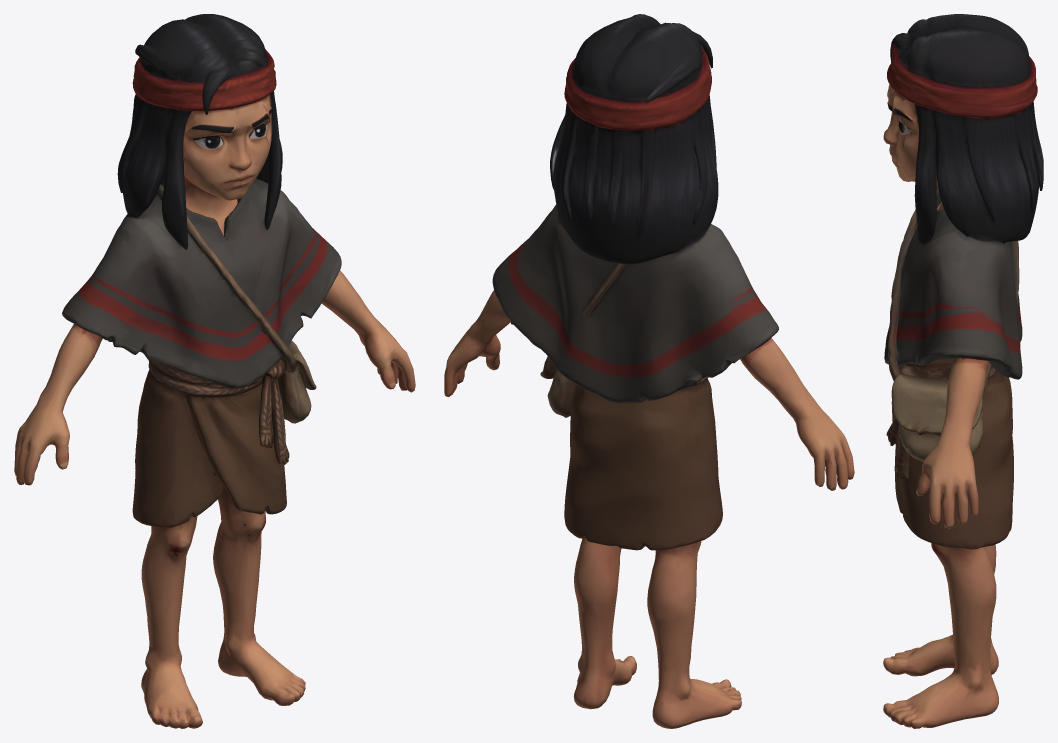
The model's file is leftraru-modelo-sin-esqueleto.glb.
The picture shows the model from 3 angles, left to right: view 1: azimuth 30°, elevation 25°; view 2: azimuth 150°, elevation 25°; view 3: azimuth 270°, elevation 25°; orthographic projection. The views are drawn at different scales.
Parts seen in each view (by area): view 1: tripo_node_966f1273-7ace-4cf9-a6ae-682561a85b42; view 2: tripo_node_966f1273-7ace-4cf9-a6ae-682561a85b42; view 3: tripo_node_966f1273-7ace-4cf9-a6ae-682561a85b42.
Part boxes in pixels (x1,y1,x2,y2): tripo_node_966f1273-7ace-4cf9-a6ae-682561a85b42: [14, 14, 415, 728]; tripo_node_966f1273-7ace-4cf9-a6ae-682561a85b42: [444, 14, 854, 728]; tripo_node_966f1273-7ace-4cf9-a6ae-682561a85b42: [883, 14, 1043, 728].
Size of the model in its own units: 0.6117 by 1 by 0.216.
Materials: 1 (1 with a texture image).
